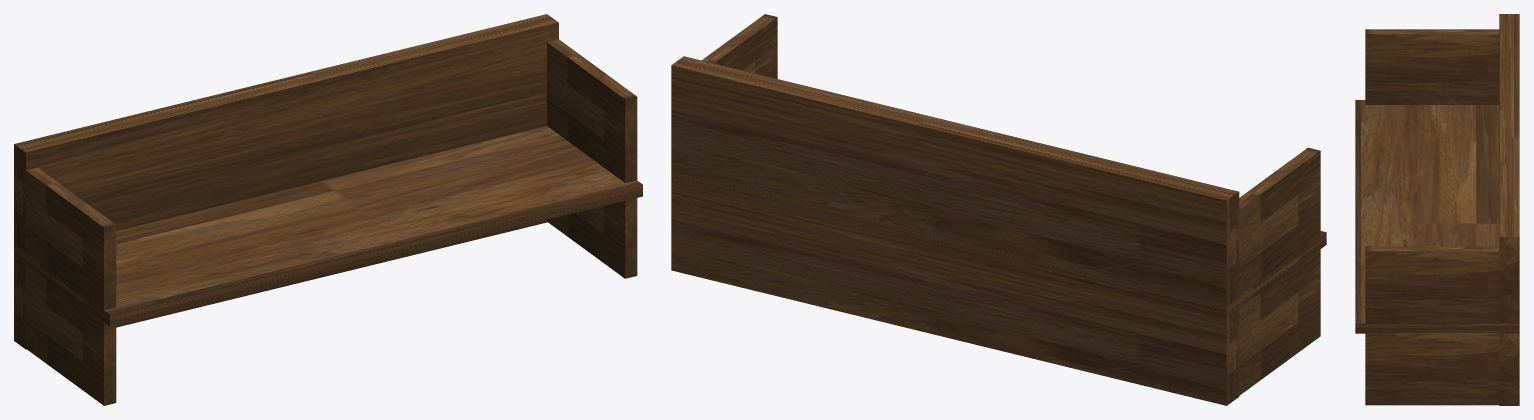
File: maya2sketchfab.fbx
The picture shows the model from 3 angles, left to right: view 1: azimuth 30°, elevation 25°; view 2: azimuth 150°, elevation 25°; view 3: azimuth 270°, elevation 25°; orthographic projection. The views are drawn at different scales.
Visible parts, largest first — view 1: pCube9; view 2: pCube9; view 3: pCube9.
Part boxes in pixels (x1,y1,x2,y2): pCube9: (14,14,642,405); pCube9: (671,14,1326,405); pCube9: (1355,14,1519,405).
Bounding box in the file's own units: 114 × 40.24 × 35.51.
1 material, 1 textured.
